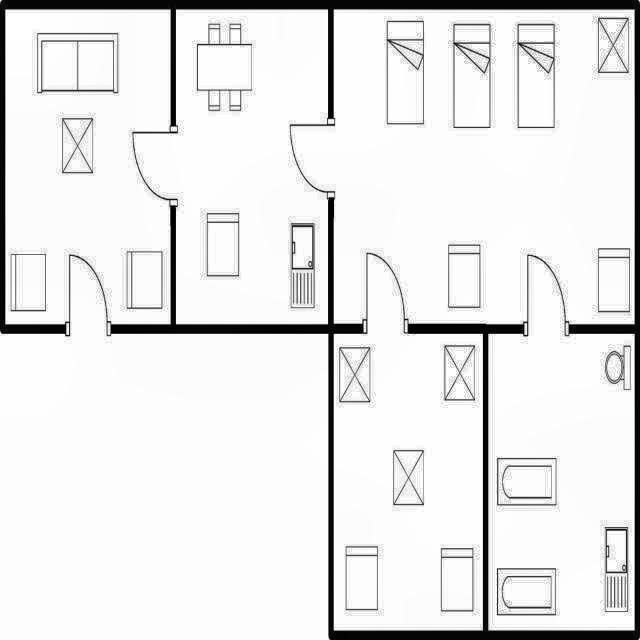room: (334, 9, 635, 324), (5, 9, 171, 324), (176, 9, 328, 324), (334, 334, 483, 631), (488, 334, 635, 631)
